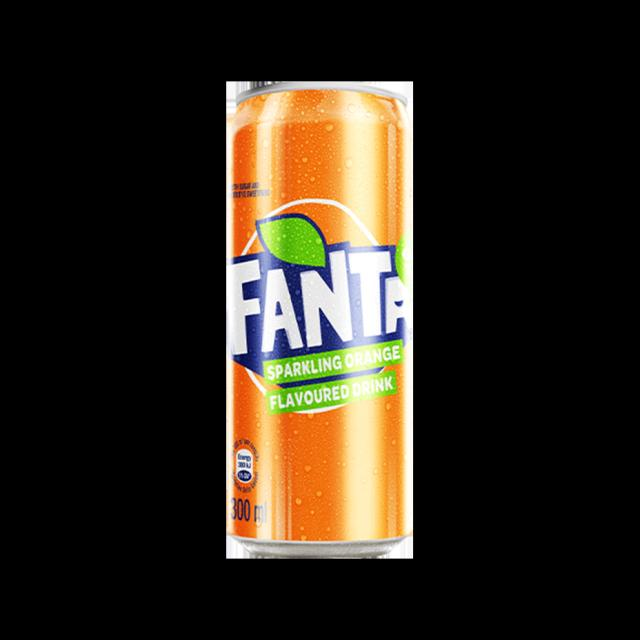fanta: (226, 80, 414, 562)
